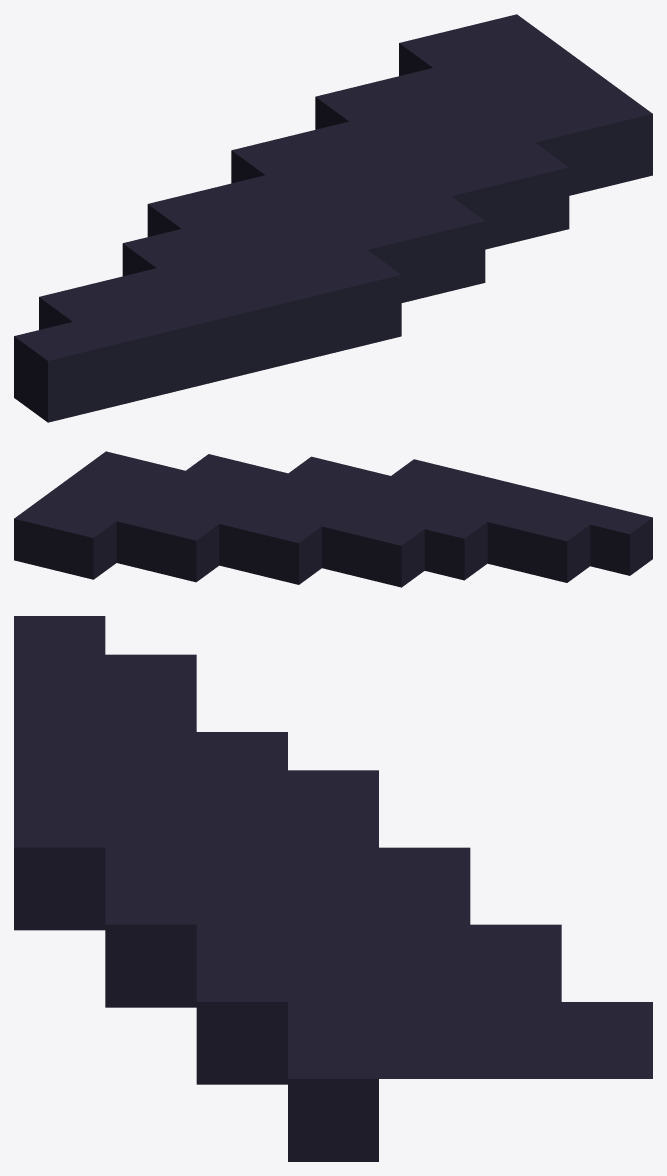
Rendered from rail 90 4.gltf.
The picture shows the model from 3 angles, top to bottom: view 1: azimuth 30°, elevation 25°; view 2: azimuth 150°, elevation 25°; view 3: azimuth 270°, elevation 25°; orthographic projection. The views are drawn at different scales.
Visible parts, largest first — view 1: rail 90 4; view 2: rail 90 4; view 3: rail 90 4.
Boxes of the visible parts, box(x1,y1,x2,y2) form: rail 90 4: box(14, 14, 652, 422); rail 90 4: box(14, 451, 652, 587); rail 90 4: box(14, 616, 652, 1161).
Bounding box in the file's own units: 12 × 1 × 7.
Materials: 1 (1 with a texture image).
